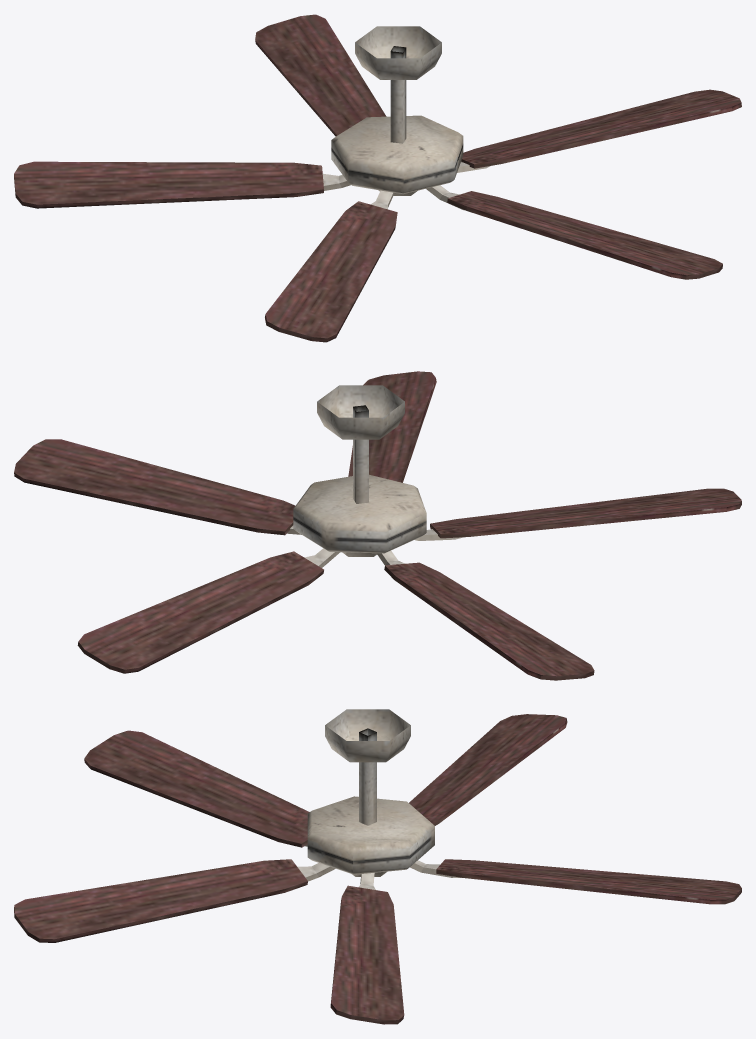
File: fan.glb
3 views of the same model, one above another, from view 1: azimuth 30°, elevation 25°; view 2: azimuth 150°, elevation 25°; view 3: azimuth 270°, elevation 25° (orthographic). The views are drawn at different scales.
Parts seen in each view (by area): view 1: Ceiling_Fan_Blades, Ceiling_Fan; view 2: Ceiling_Fan_Blades, Ceiling_Fan; view 3: Ceiling_Fan_Blades, Ceiling_Fan.
Part boxes in pixels (x1,y1,x2,y2): Ceiling_Fan_Blades: (14,14,741,342); Ceiling_Fan: (331,26,463,195); Ceiling_Fan_Blades: (14,371,741,680); Ceiling_Fan: (293,385,426,556); Ceiling_Fan_Blades: (14,714,741,1024); Ceiling_Fan: (307,709,434,876).
Size of the model in its own units: 2.53 by 0.5487 by 2.54.
Materials: 1 (1 with a texture image).
